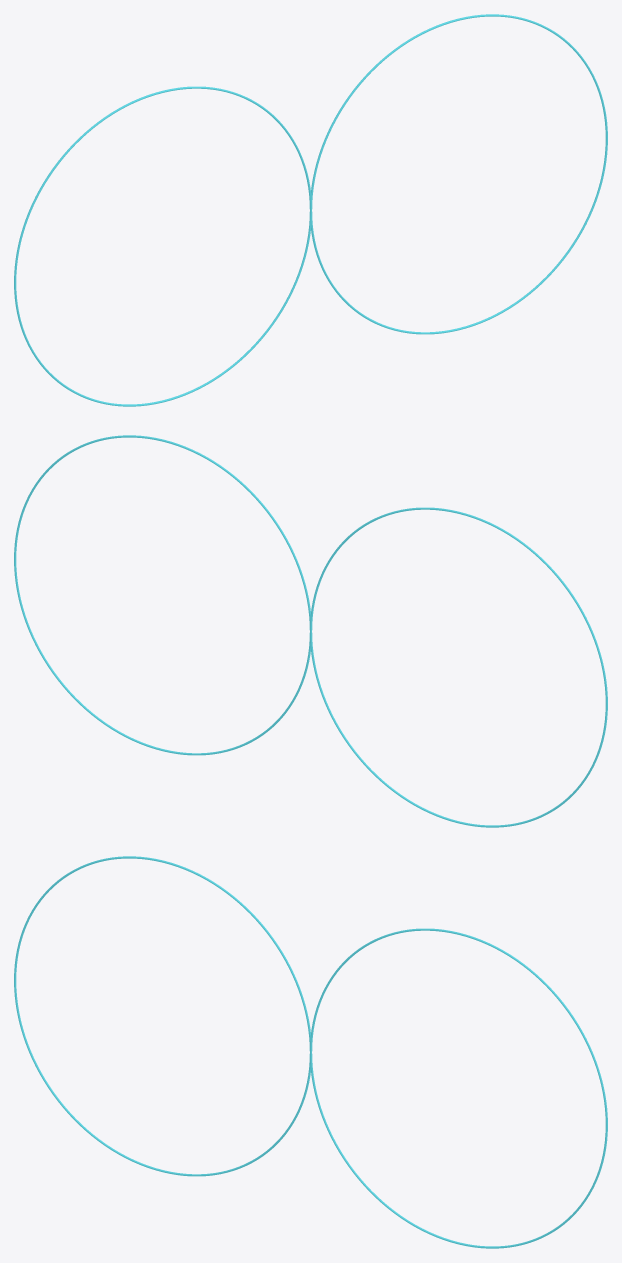
The model's file is pattern_v.glb.
3 renders of one model, top to bottom at view 1: azimuth 30°, elevation 25°; view 2: azimuth 150°, elevation 25°; view 3: azimuth 330°, elevation 25°, orthographic.
Parts seen in each view (by area): view 1: pattern_v; view 2: pattern_v; view 3: pattern_v.
Part boxes in pixels (x1,y1,x2,y2): pattern_v: [14, 14, 607, 406]; pattern_v: [14, 435, 607, 827]; pattern_v: [14, 856, 607, 1248].
Bounding box in the file's own units: 1.2 × 0.604 × 0.004.
